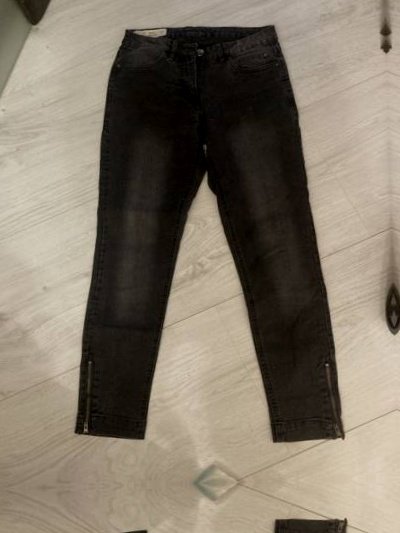Pants: (44, 7, 347, 444), (59, 523, 362, 533)
